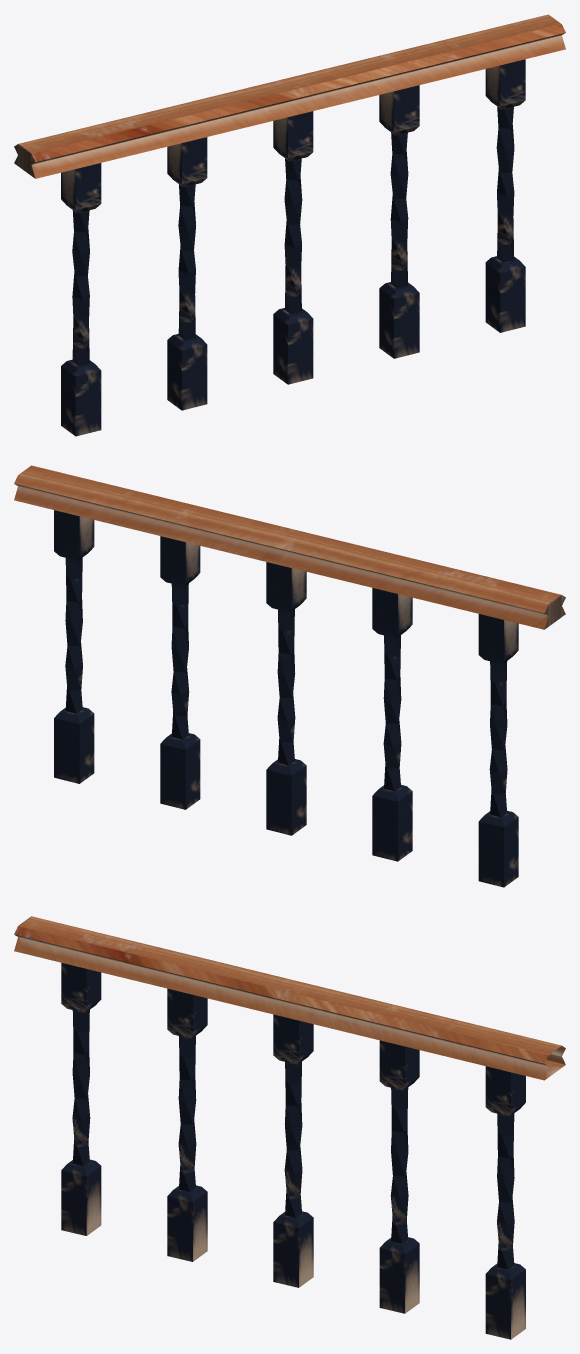
The model's file is RailingHalf1.FBX.
3 renders of one model, top to bottom at view 1: azimuth 30°, elevation 25°; view 2: azimuth 150°, elevation 25°; view 3: azimuth 330°, elevation 25°, orthographic.
Visible parts, largest first — view 1: RailingHalf; view 2: RailingHalf; view 3: RailingHalf.
Part boxes in pixels (x1,y1,x2,y2): RailingHalf: [14, 14, 565, 436]; RailingHalf: [14, 465, 565, 887]; RailingHalf: [14, 916, 565, 1339].
Bounding box in the file's own units: 127 × 67.05 × 8.89.
